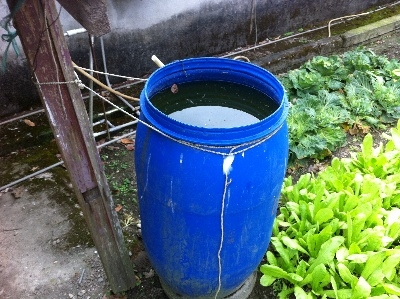bucket: (130, 56, 292, 299)
